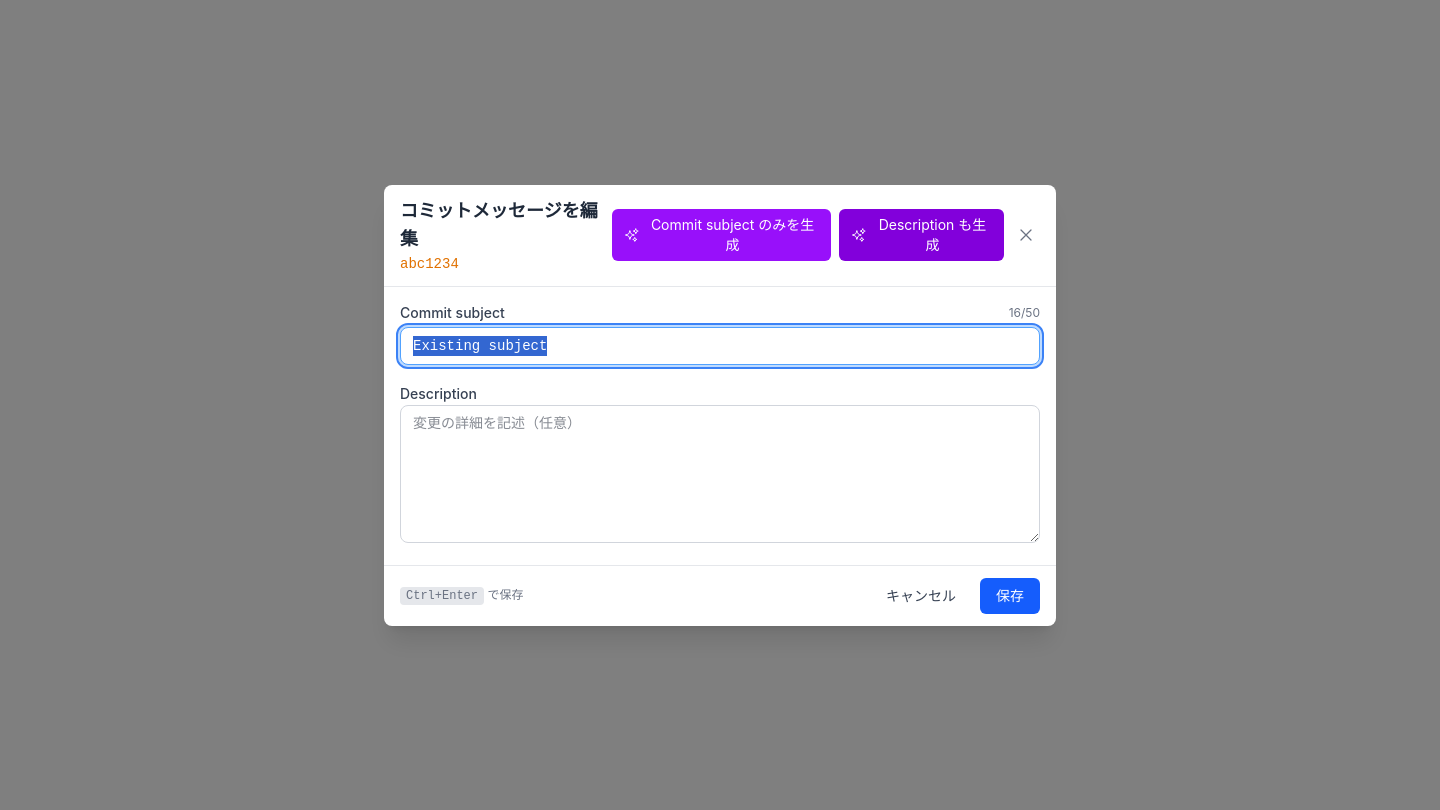
Scenario: RewordModal › AI 生成 › 生成に失敗した場合はエラーを表示して既存入力を保持する
Click the button "Commit subject のみを生成": (722, 235) [612,209,831,261]
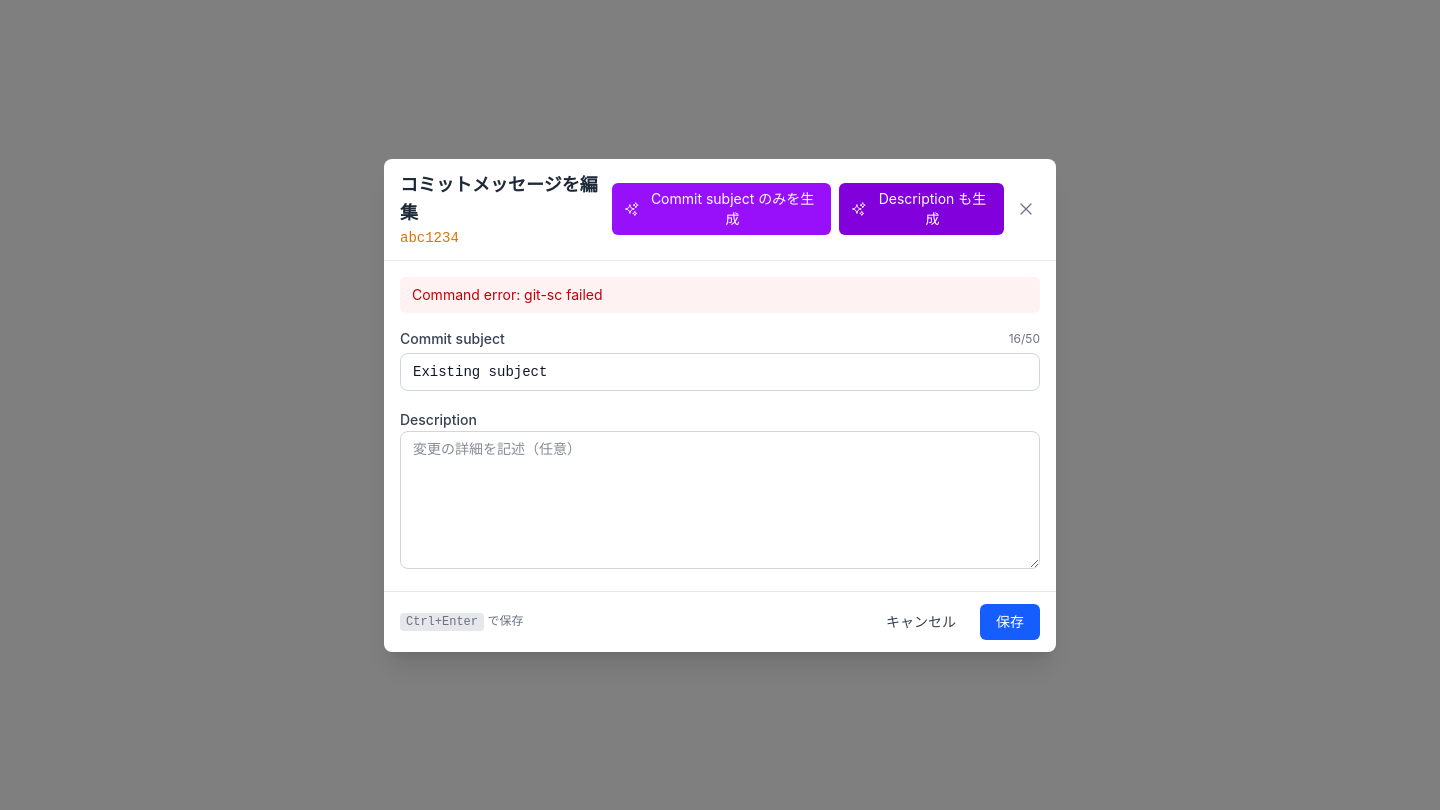
Expected: the field labelled "Commit subject" holds "Existing subject", [400,352,1040,390]
Expected: the message reads "Command error: git-sc failed", [412,286,602,302]
